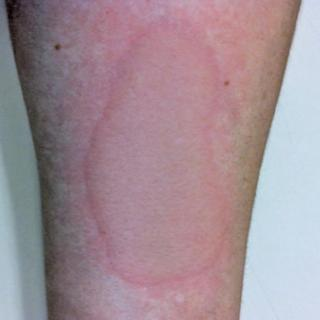urticaria: (90, 6, 240, 287)
